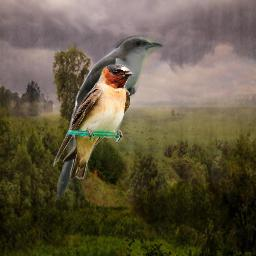Cuckoo: (51, 34, 164, 203)
Swallow: (53, 64, 134, 180)
